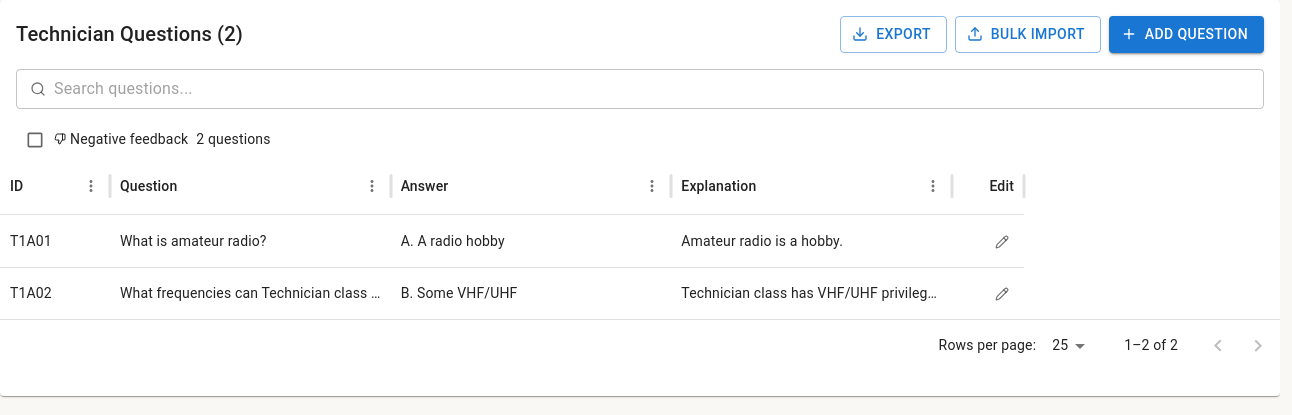
Test case: AdminQuestions › Negative Feedback Filter › should filter to questions with negative feedback when checked
Expected: the text "T1A01" is shown, [10,232,52,248]
Click the checkbox labelled "Negative feedback" at (107, 140), box [25,130,188,150]
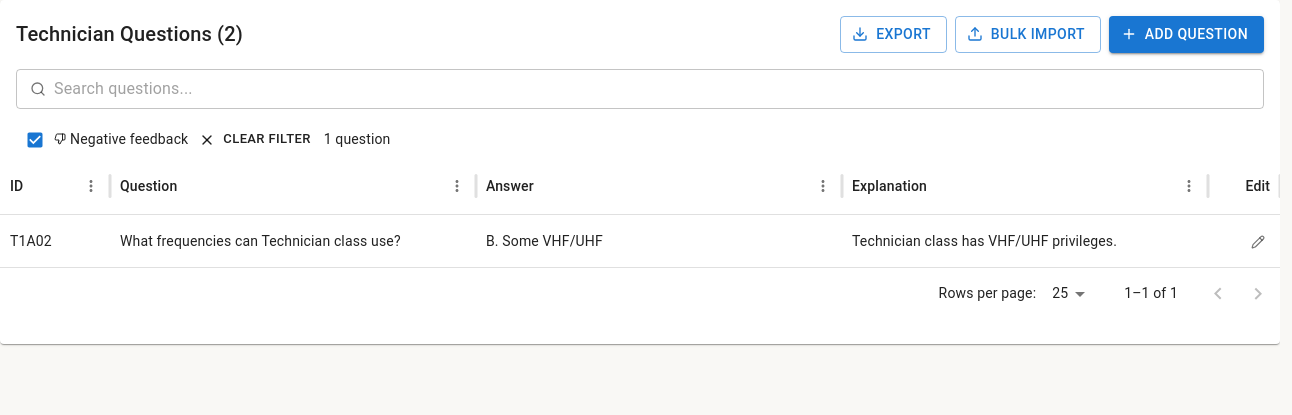
Expected: the text "T1A02" is shown, [10,232,52,248]
Expected: the text "T1A01" is gone
